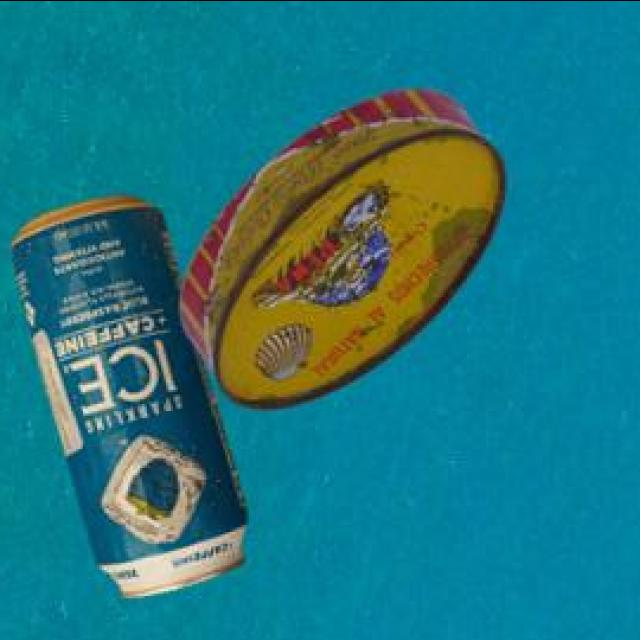logam: (184, 84, 511, 404), (13, 191, 250, 594)
